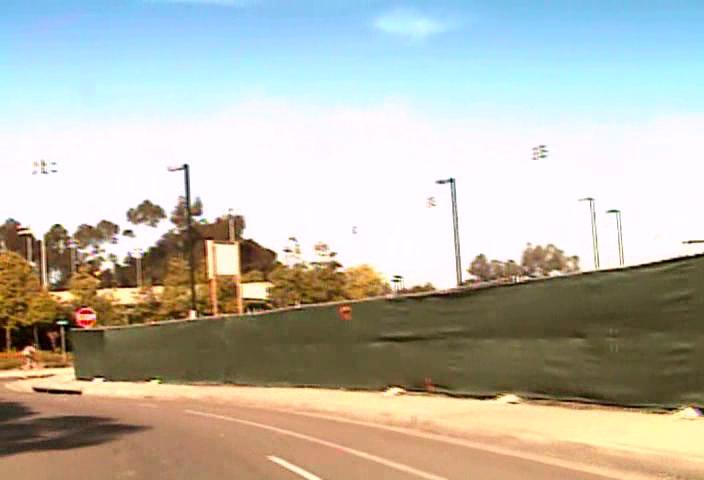stop: (76, 306, 96, 326)
